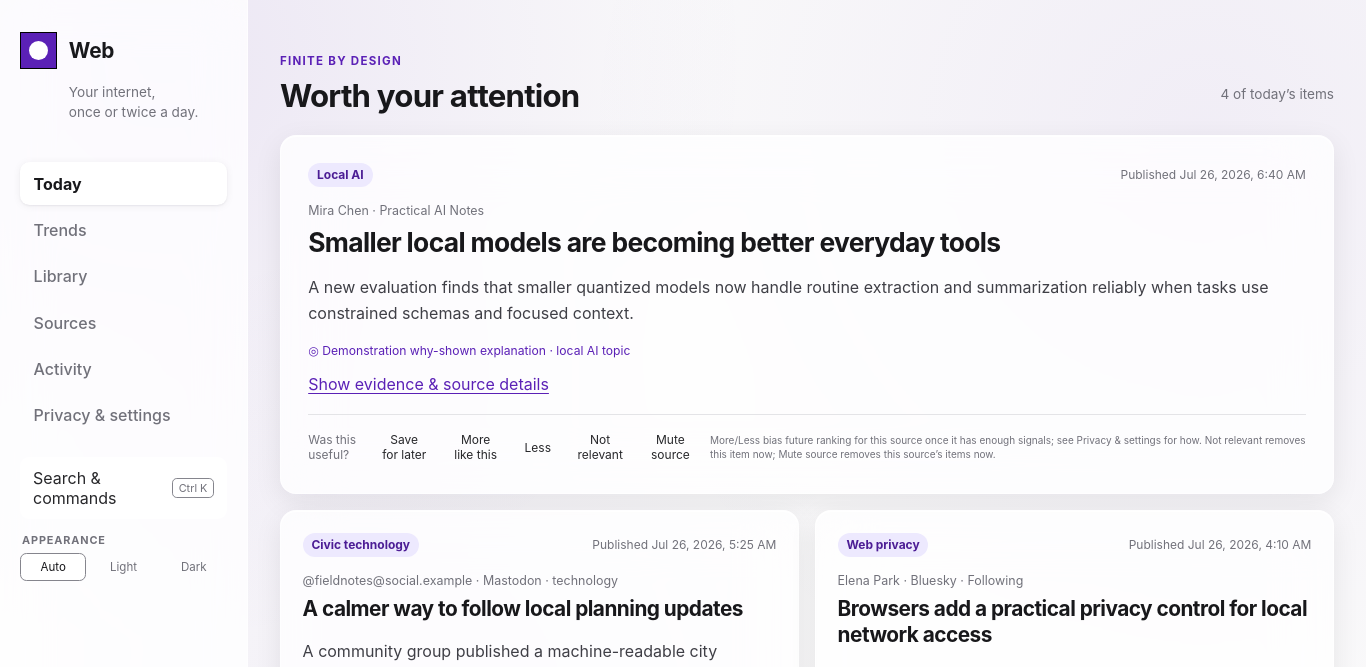
it: calm dashboard › opens eligible HTTPS evidence through the app transport and reports success
The image size is (1366, 667).
(page scrolled)
Click the button with aria-label "Show evidence for Smaller local models": click(429, 384) [308,370,549,398]
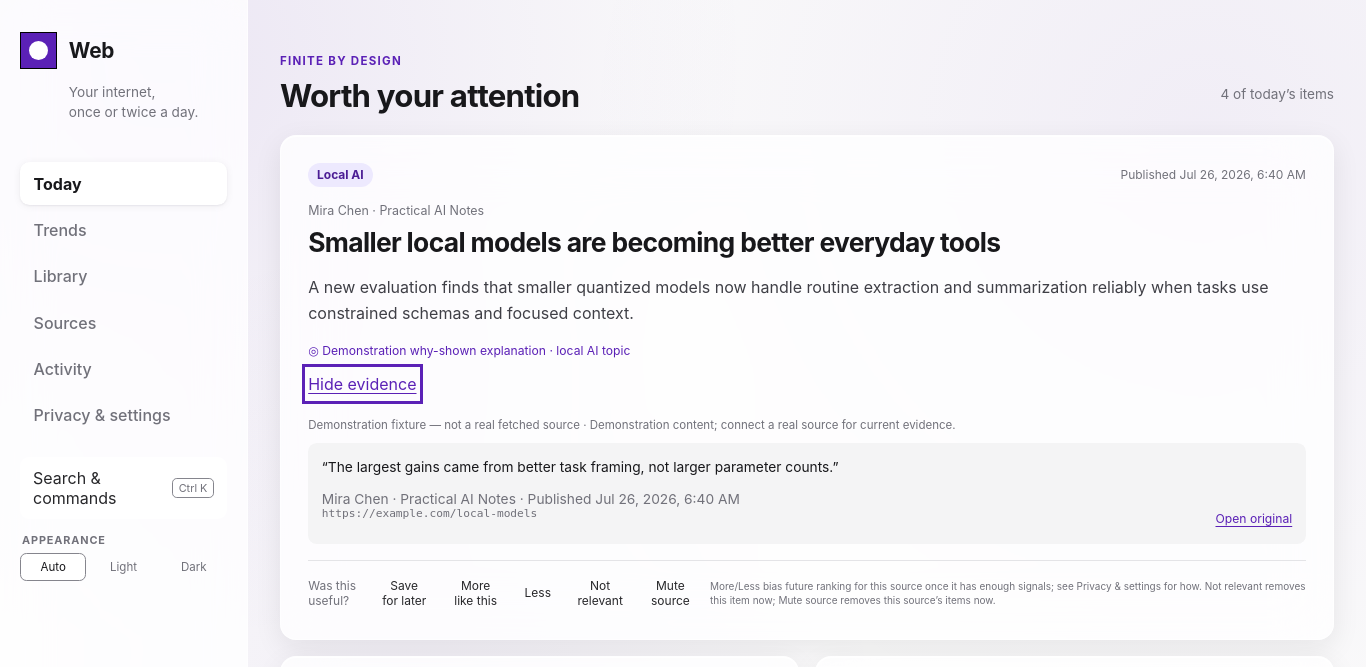
Click the button "Open original": click(1254, 519) [1216,507,1292,530]
(page scrolled)
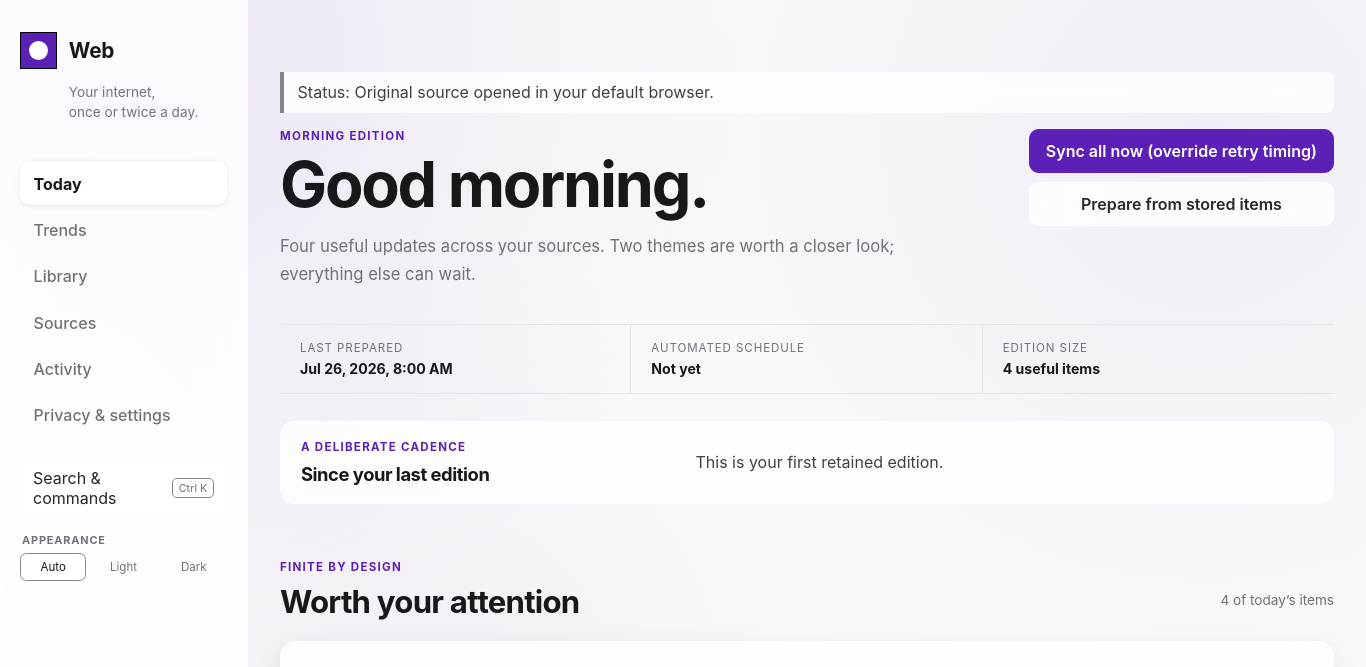
Expected: the text "Status: Original source opened in your default browser." is shown, [280,72,1334,113]
